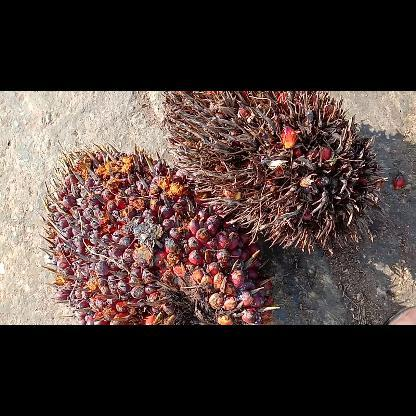TBS masak: (39, 142, 279, 324)
Terlalu masak: (160, 91, 386, 253)
